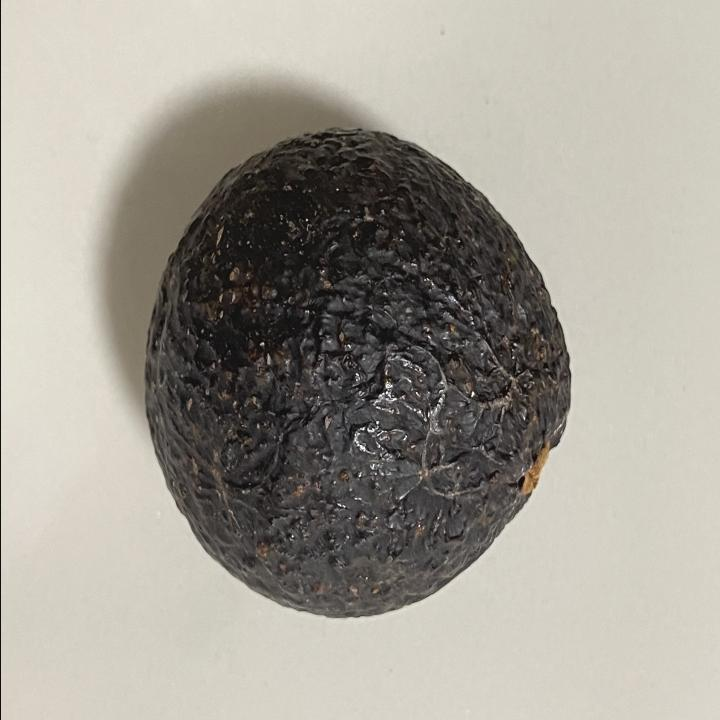Level2: (140, 120, 578, 624)
